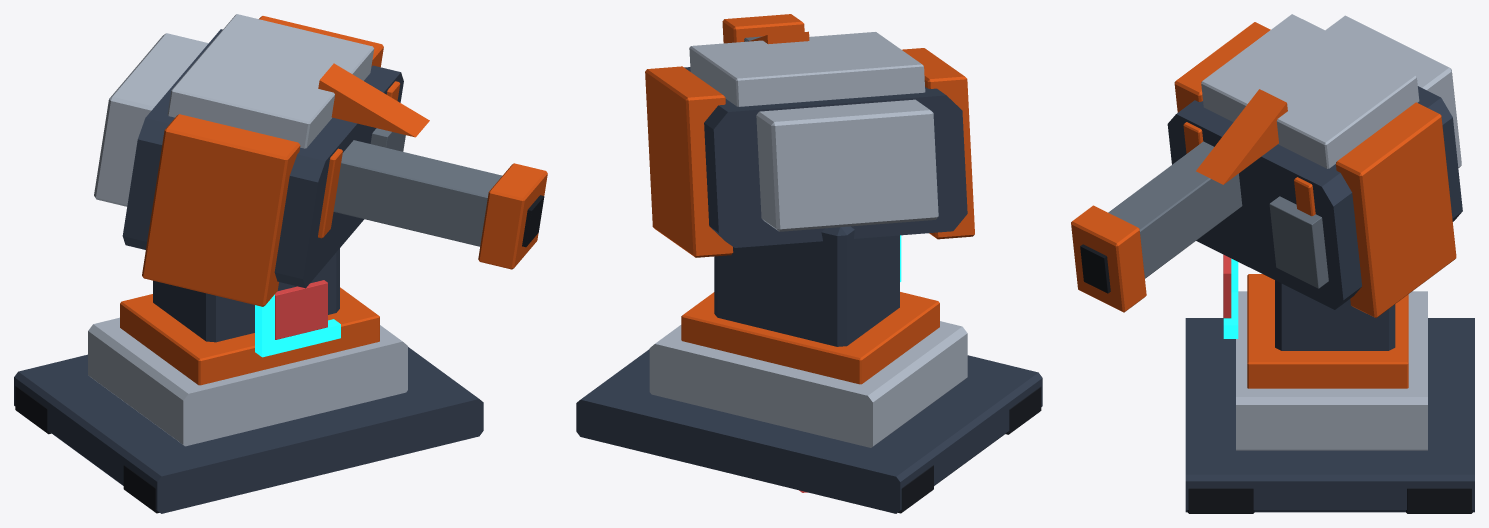
Rendered from critical.glb.
The picture shows the model from 3 angles, left to right: view 1: azimuth 30°, elevation 25°; view 2: azimuth 150°, elevation 25°; view 3: azimuth 270°, elevation 25°; orthographic projection.
Parts seen in each view (by area): view 1: ROLE_primary, ROLE_secondary, ROLE_accent, ROLE_bareMetal, ROLE_critical, ROLE_rubber, ROLE_interaction; view 2: ROLE_primary, ROLE_secondary, ROLE_accent, ROLE_rubber; view 3: ROLE_primary, ROLE_accent, ROLE_secondary, ROLE_bareMetal, ROLE_rubber, ROLE_interaction, ROLE_critical.
Part boxes in pixels (box(x1,y1,x2,y2)): ROLE_primary: box(14, 29, 483, 513); ROLE_secondary: box(88, 14, 407, 446); ROLE_accent: box(120, 16, 547, 385); ROLE_bareMetal: box(333, 128, 501, 246); ROLE_critical: box(275, 280, 327, 339); ROLE_rubber: box(15, 195, 544, 513); ROLE_interaction: box(255, 294, 340, 357); ROLE_primary: box(576, 67, 1042, 513); ROLE_secondary: box(649, 32, 967, 447); ROLE_accent: box(645, 14, 974, 384); ROLE_rubber: box(898, 386, 1041, 513); ROLE_primary: box(1167, 86, 1474, 512); ROLE_accent: box(1071, 22, 1456, 388); ROLE_secondary: box(1201, 14, 1461, 450); ROLE_bareMetal: box(1108, 141, 1328, 288); ROLE_rubber: box(1080, 244, 1472, 513); ROLE_interaction: box(1223, 258, 1238, 338); ROLE_critical: box(1223, 254, 1231, 318).
Bounding box in the file's own units: 4.73 × 5.4 × 4.6.
